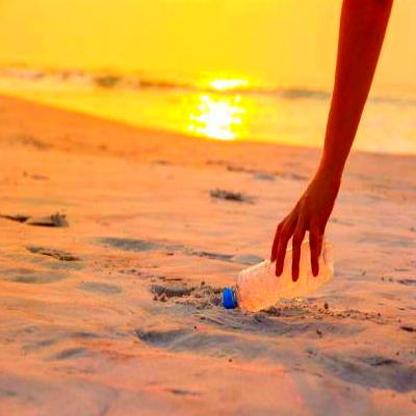plastic bottle: (223, 239, 335, 311)
